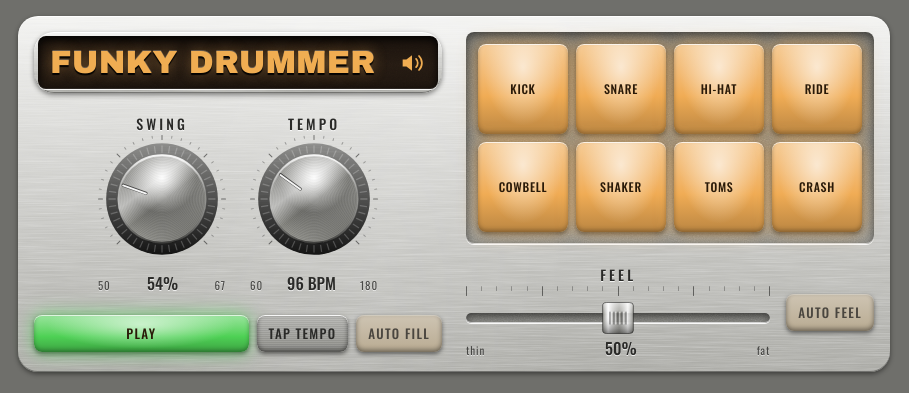
Test: the transport › swaps back on a second press
Click the button "Play": (141, 334) 34,315 -> 249,352
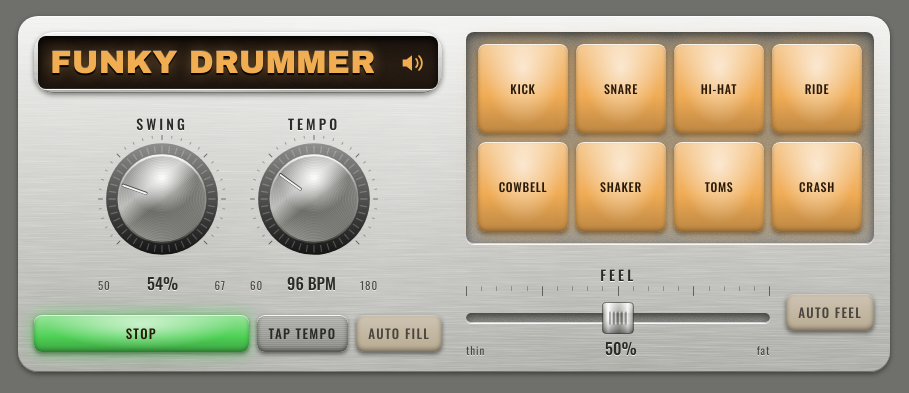
Click the button "Stop": (141, 334) 34,315 -> 249,352
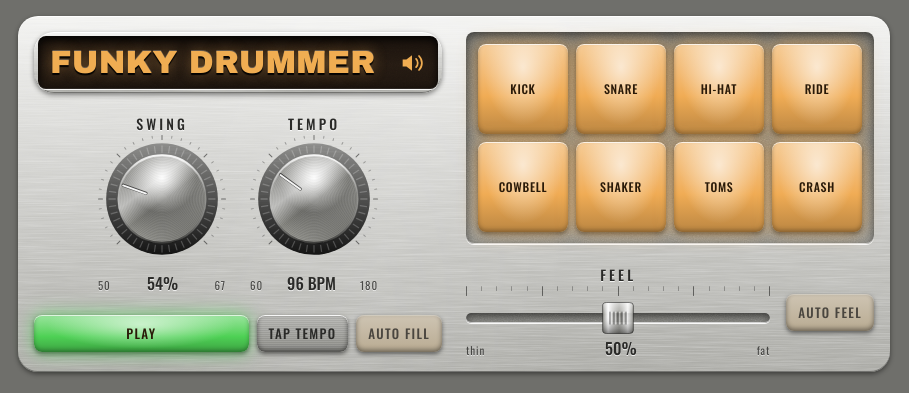
Expected: the button "Play" is shown, 34,315 -> 249,352
